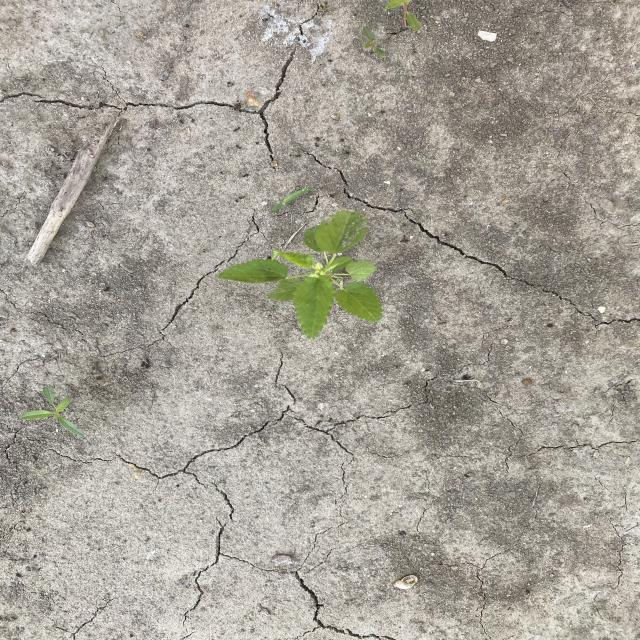PricklySida: (211, 208, 387, 342)
Waterhemp: (18, 384, 88, 438)
